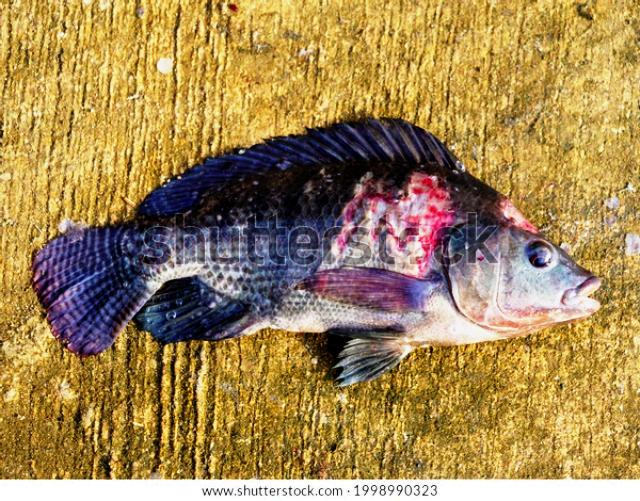Aeromonas Septicemia: (34, 119, 600, 386), (32, 119, 598, 385)
